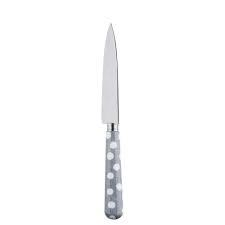Knife: (100, 22, 123, 219)
